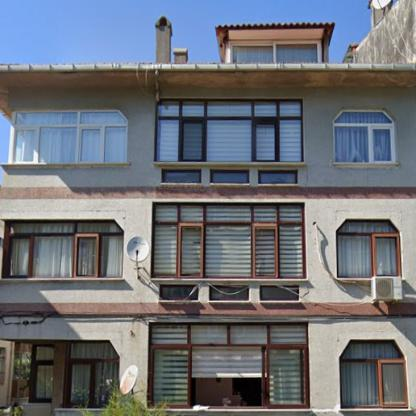window: (151, 322, 308, 406), (152, 203, 304, 277), (157, 101, 302, 160), (7, 220, 124, 277), (14, 112, 126, 162), (340, 340, 406, 406), (336, 219, 400, 276), (68, 342, 118, 408), (334, 110, 394, 162), (232, 43, 318, 63), (32, 344, 53, 399)
